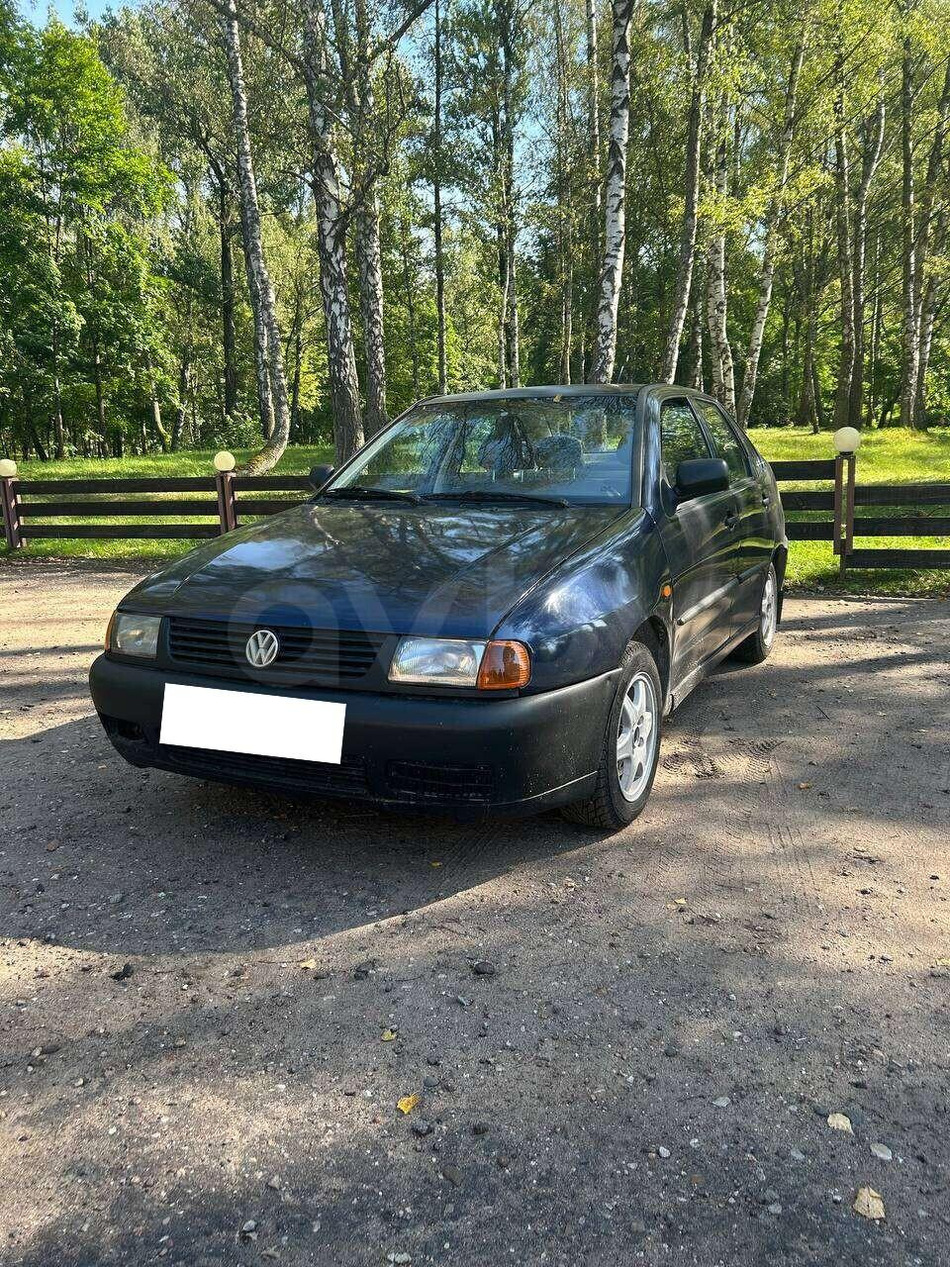Polo_1994-2002: (70, 361, 808, 837)
